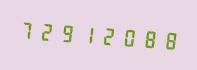eight: (137, 22, 156, 54), (157, 24, 176, 55)
nine: (57, 17, 76, 48)
one: (77, 18, 96, 49)
seven: (17, 14, 36, 45)
two: (37, 15, 56, 47), (97, 19, 116, 51)
zero: (117, 21, 136, 52)
